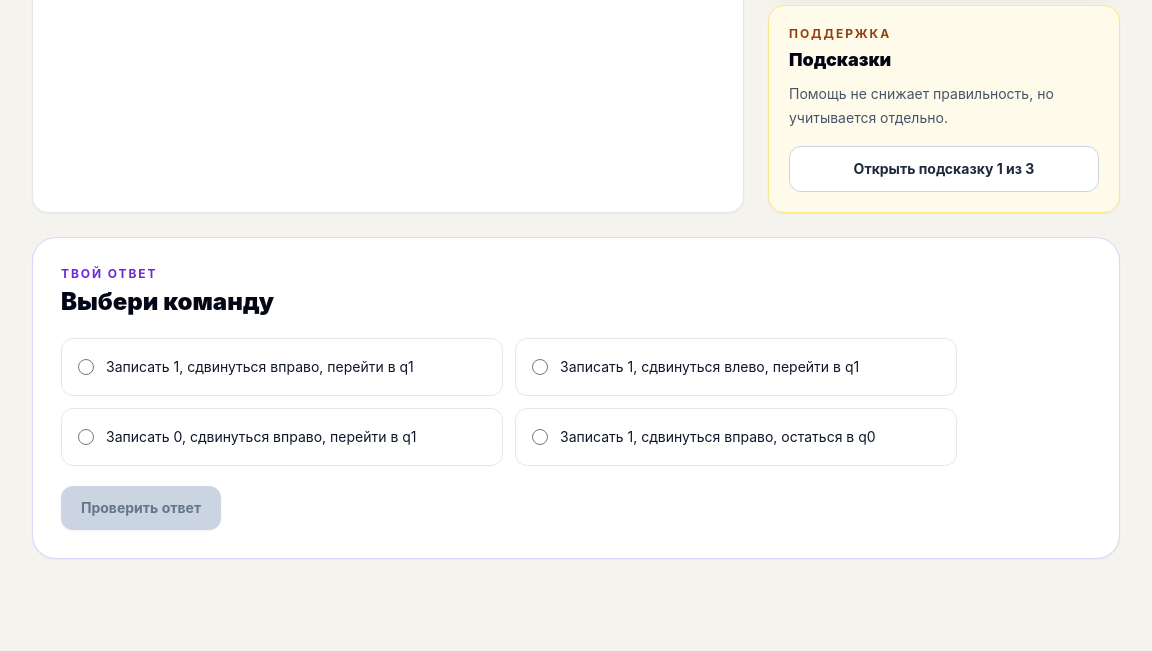
Test: экран учебной задачи › проверяет выбранный ответ и показывает содержательный результат
The image size is (1152, 651).
(page scrolled)
Click the radio button labelled "Записать 1, сдвинуться влево, перейти в q1" at (540, 366), box x1=532 y1=358 x2=548 y2=374
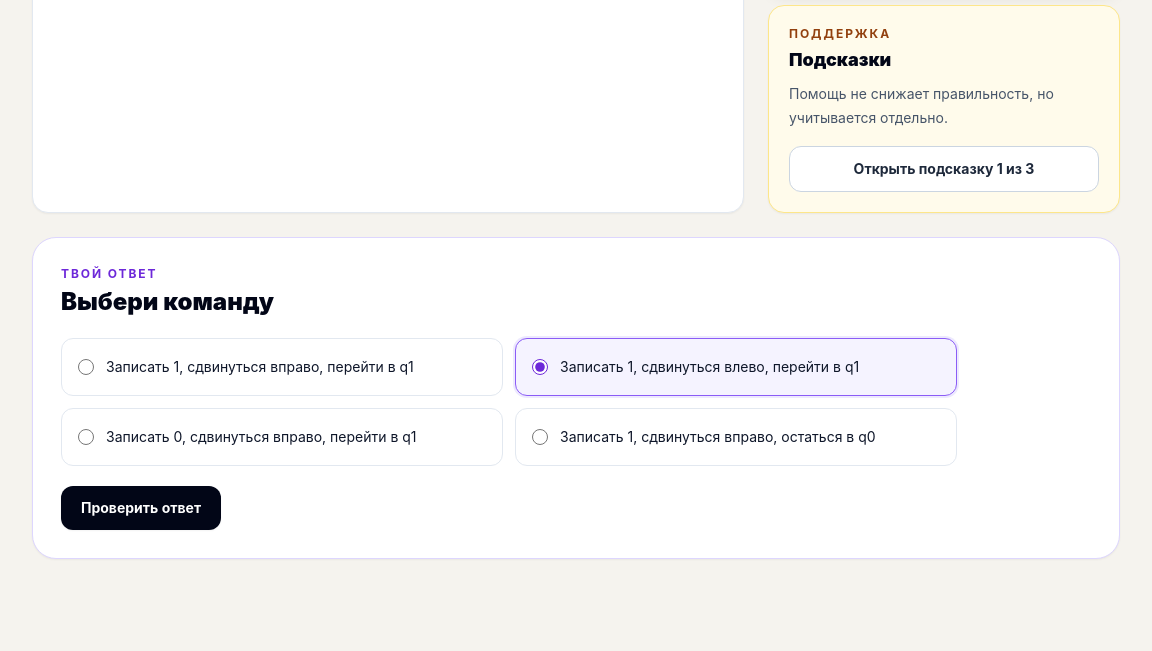
Click the button "Проверить ответ" at (141, 508), box x1=61 y1=486 x2=221 y2=530
(page scrolled)
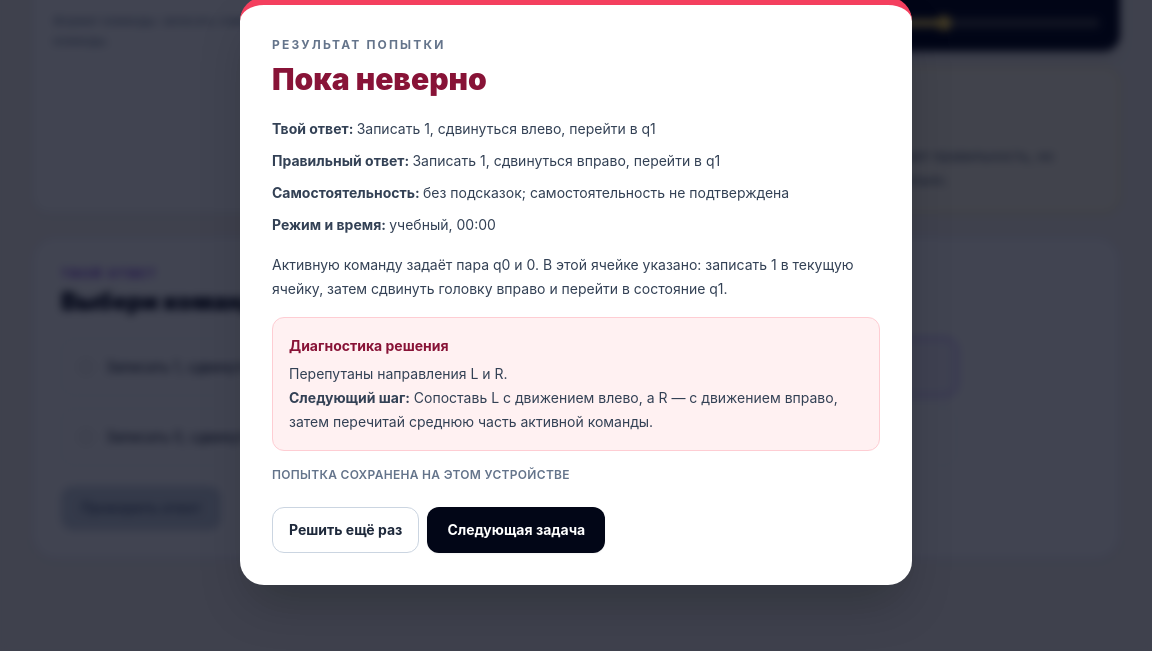
Expected: the message shows "Пока неверно", x1=272 y1=61 x2=487 y2=97
Expected: the message shows "без подсказок; самостоятельность не подтверждена", x1=423 y1=184 x2=789 y2=201
Expected: the message shows "Активную команду задаёт пара q0 и 0", x1=272 y1=256 x2=854 y2=297
Click the button "Решить ещё раз" at (346, 530), box x1=272 y1=507 x2=419 y2=553
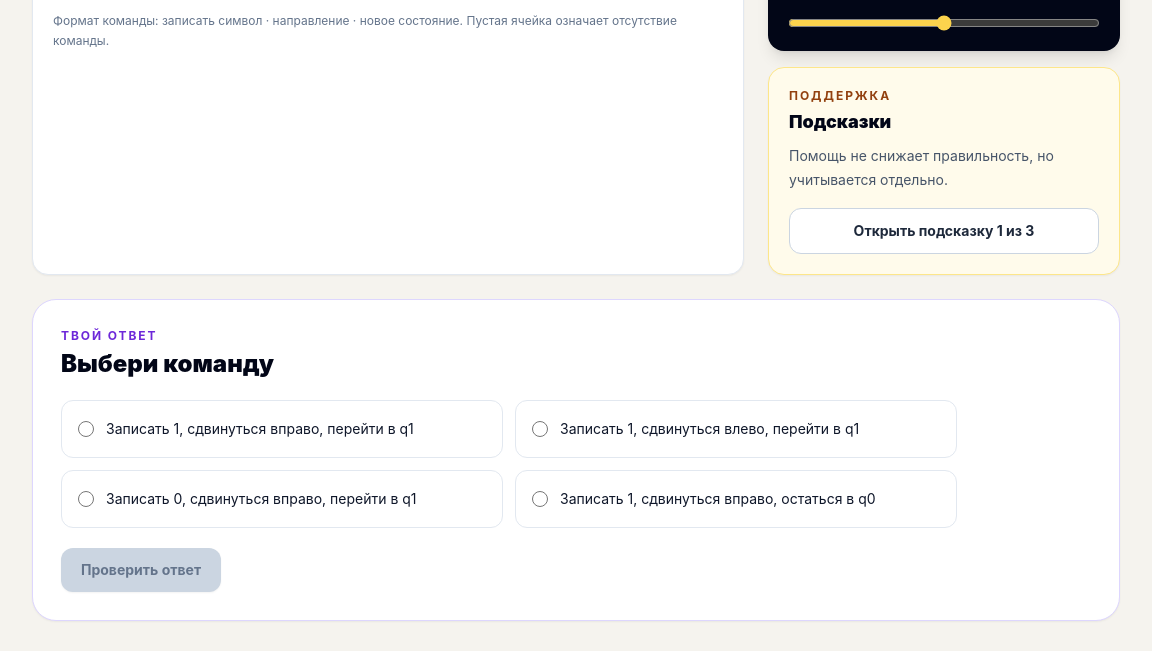
Expected: the message "Результат попытки Пока неверно Твой ответ:Записать 1, сдвинуться влево, перейти" is gone
